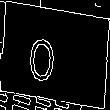O_N: (40, 27, 70, 83)
